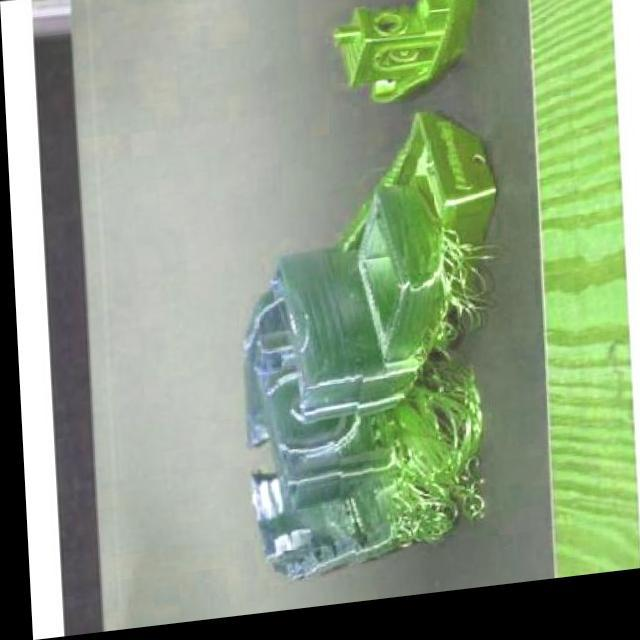spaghetti: (382, 366, 483, 557), (418, 235, 502, 362)
